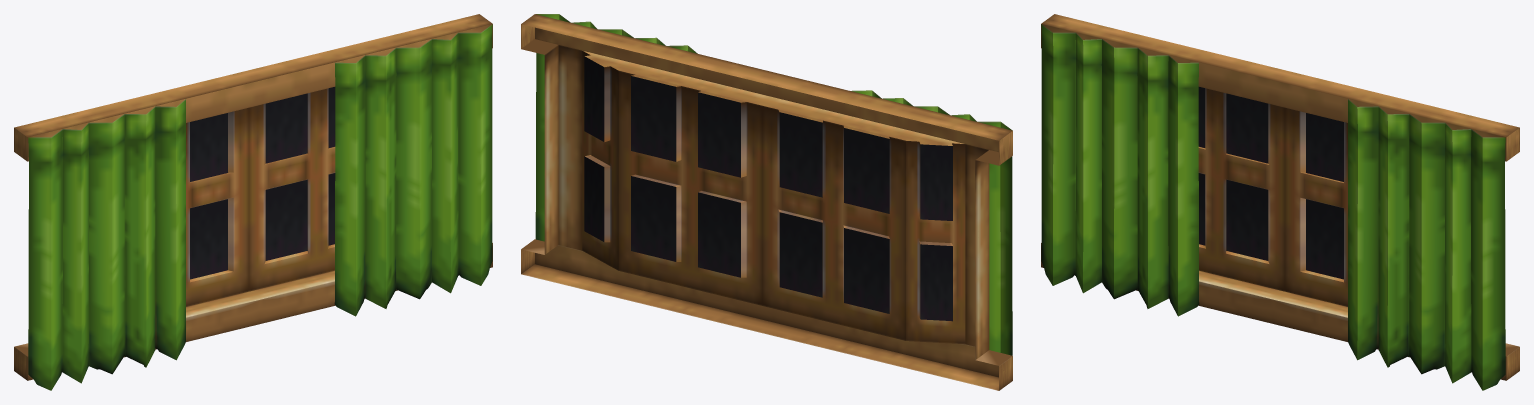
The model's file is Inside_Poly_Window_02_Night.obj.
3 renders of one model, left to right at view 1: azimuth 30°, elevation 25°; view 2: azimuth 150°, elevation 25°; view 3: azimuth 330°, elevation 25°, orthographic. The views are drawn at different scales.
Visible parts, largest first — view 1: Plane, Cube_Cube.003; view 2: Cube_Cube.003, Plane; view 3: Plane, Cube_Cube.003.
Boxes of the visible parts, x1=… form: Plane: x1=28, y1=24, x2=492, y2=390; Cube_Cube.003: x1=14, y1=14, x2=492, y2=380; Cube_Cube.003: x1=521, y1=14, x2=1012, y2=390; Plane: x1=535, y1=14, x2=1012, y2=355; Plane: x1=1041, y1=24, x2=1505, y2=390; Cube_Cube.003: x1=1041, y1=14, x2=1519, y2=380.
Bounding box in the file's own units: 2 × 1.04 × 0.1447.
1 material, 1 textured.
